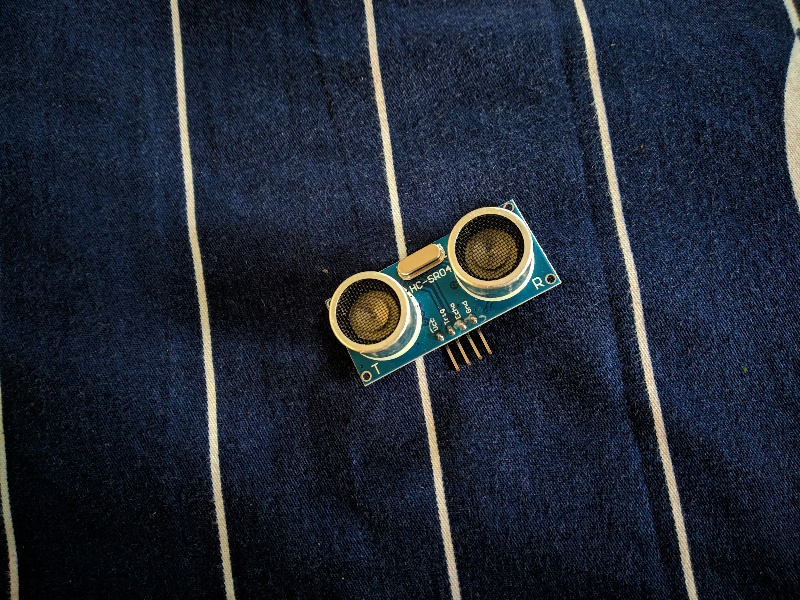Sonar Sensor: (315, 194, 571, 390)
